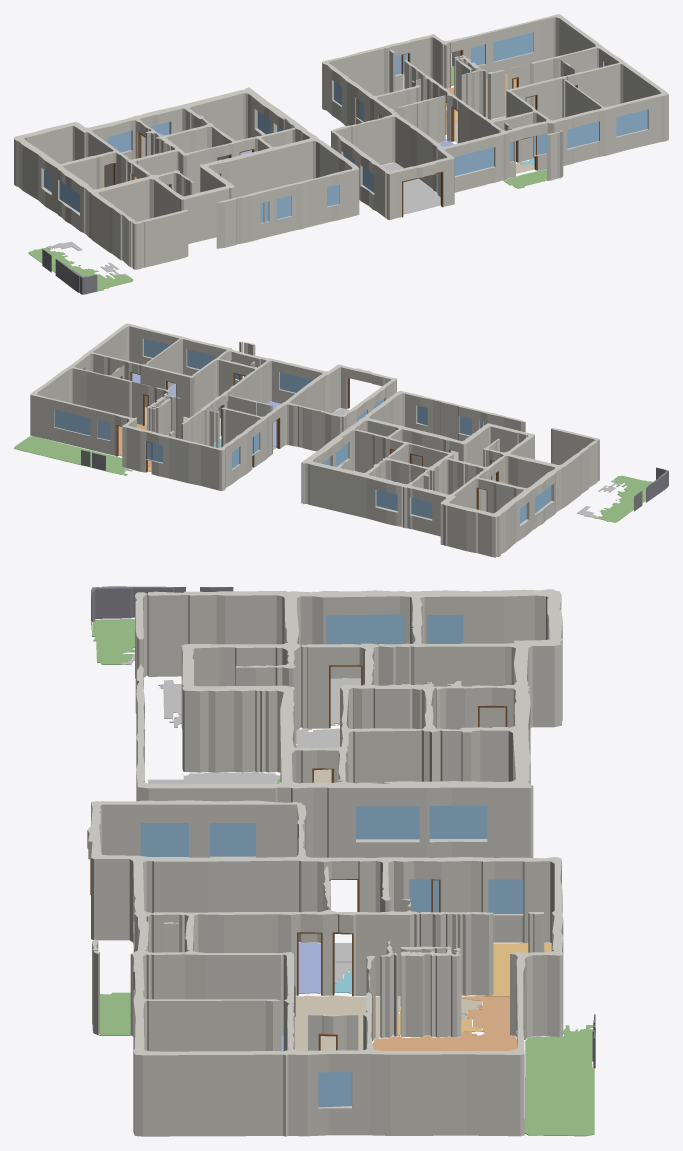
The picture shows the model from 3 angles, top to bottom: view 1: azimuth 30°, elevation 25°; view 2: azimuth 150°, elevation 25°; view 3: azimuth 270°, elevation 25°; orthographic projection. The views are drawn at different scales.
Visible parts, largest first — view 1: walls, floor_36_Garage, railings, floor_2_Outdoor, window_27, window_36, window_39, window_40, floor_0_Outdoor; view 2: walls, floor_3_Outdoor, floor_2_Outdoor, railings, window_27, window_36, window_39, window_24, window_23; view 3: walls, floor_3_Outdoor, floor_7_Living_Room, floor_19_Entry, window_32, railings, window_31, window_28, floor_2_Outdoor, window_35, window_34, floor_0_Outdoor (+8 smaller).
Boxes of the visible parts, box(x1,y1,x2,y2) form: walls: box(14, 14, 668, 269); floor_36_Garage: box(382, 162, 440, 214); railings: box(42, 50, 460, 294); floor_2_Outdoor: box(28, 247, 133, 291); window_27: box(493, 32, 533, 61); window_36: box(454, 147, 493, 175); window_39: box(567, 121, 598, 148); window_40: box(616, 109, 647, 136); floor_0_Outdoor: box(503, 169, 560, 188); walls: box(30, 323, 599, 557); floor_3_Outdoor: box(14, 436, 132, 475); floor_2_Outdoor: box(598, 475, 652, 522); railings: box(81, 402, 668, 511); window_27: box(54, 409, 90, 435); window_36: box(280, 372, 312, 392); window_39: box(187, 349, 215, 369); window_24: box(411, 497, 432, 518); window_23: box(376, 489, 397, 510); walls: box(87, 589, 563, 1136); floor_3_Outdoor: box(524, 1025, 594, 1136); floor_7_Living_Room: box(372, 996, 516, 1050); floor_19_Entry: box(294, 995, 482, 1050); window_32: box(326, 614, 404, 644); railings: box(91, 586, 595, 1068); window_31: box(356, 806, 419, 839); window_28: box(429, 805, 487, 838); floor_2_Outdoor: box(92, 619, 134, 664); window_35: box(140, 823, 188, 856); window_34: box(210, 823, 255, 856); floor_0_Outdoor: box(99, 992, 130, 1035).
Size of the model in its own units: 37.04 by 2.72 by 15.29.
